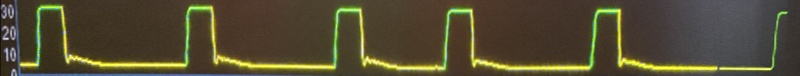normal_pressure: (25, 1, 725, 76)
